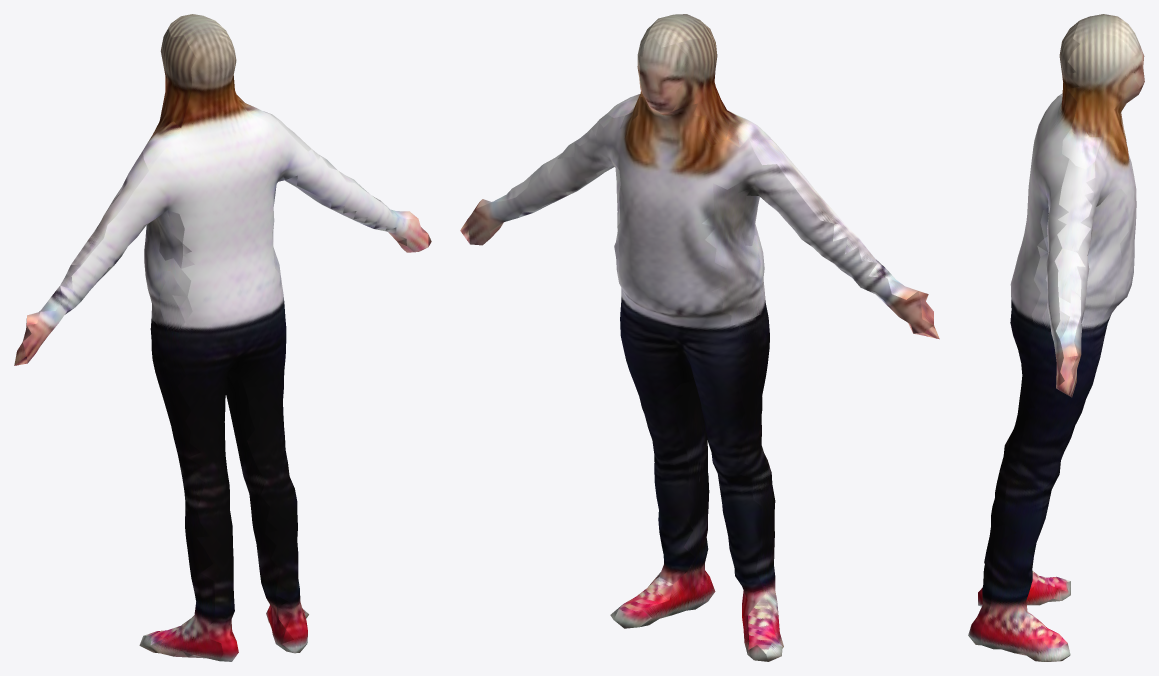
The picture shows the model from 3 angles, left to right: view 1: azimuth 30°, elevation 25°; view 2: azimuth 150°, elevation 25°; view 3: azimuth 270°, elevation 25°; orthographic projection. The views are drawn at different scales.
Visible parts, largest first — view 1: world; view 2: world; view 3: world.
Boxes of the visible parts, box(x1,y1,x2,y2) form: world: box(14, 14, 431, 661); world: box(460, 14, 939, 661); world: box(968, 14, 1144, 661).
Size of the model in its own units: 0.7601 by 1.01 by 0.2656.
Materials: 1 (1 with a texture image).
